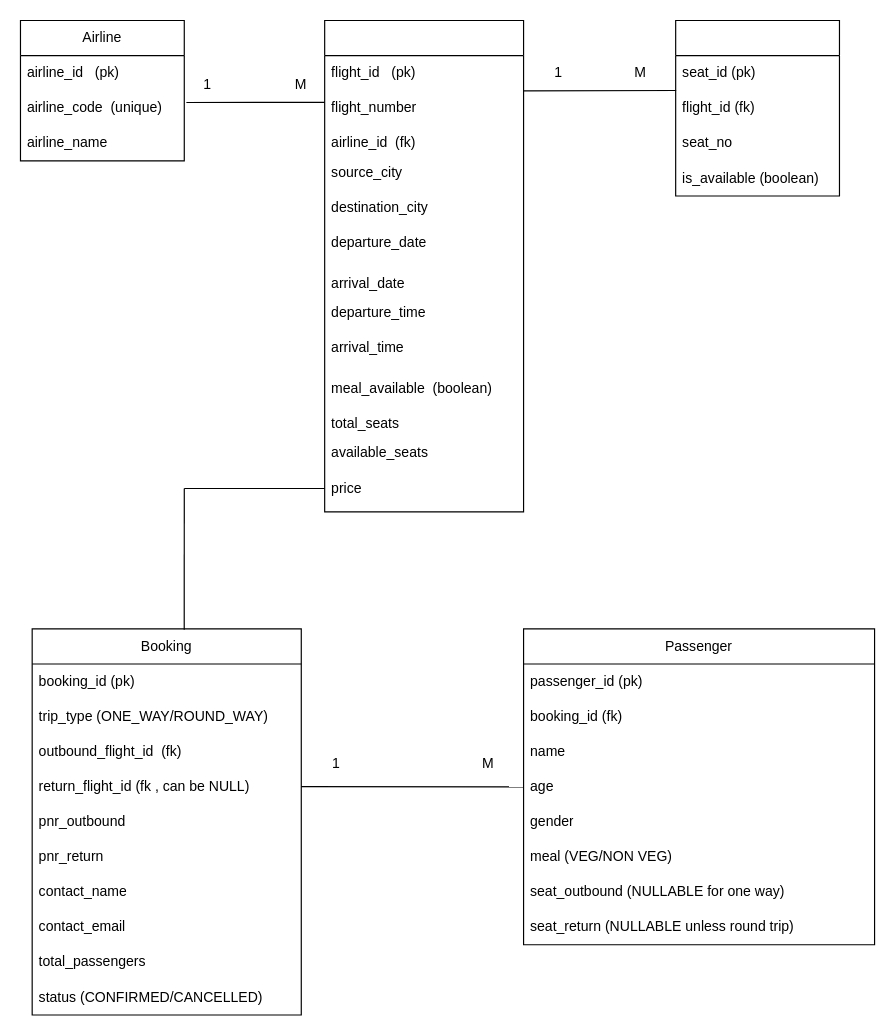
The diagram is 895 pixels wide and 1035 high, and some of its shapes have lost their labels. The box of each missing label's shape, as (x1, y1, x2, y2) in pixels:
Flight_Inventory: (324, 19, 524, 512)
Seat_map: (675, 19, 839, 196)
